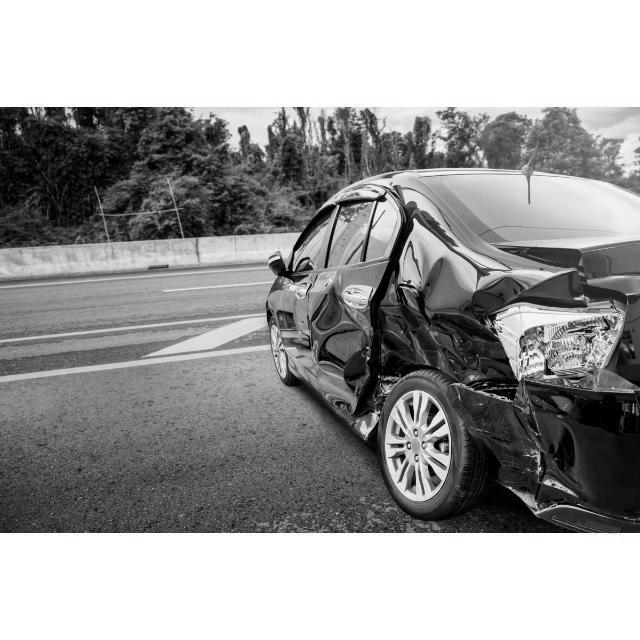Taillight-Damage: (500, 300, 625, 395)
boot-dent: (511, 228, 640, 364)
doorouter-dent: (307, 269, 376, 410)
quaterpanel-dent: (392, 186, 524, 410)
rear-bumper-dent: (471, 401, 600, 529)
